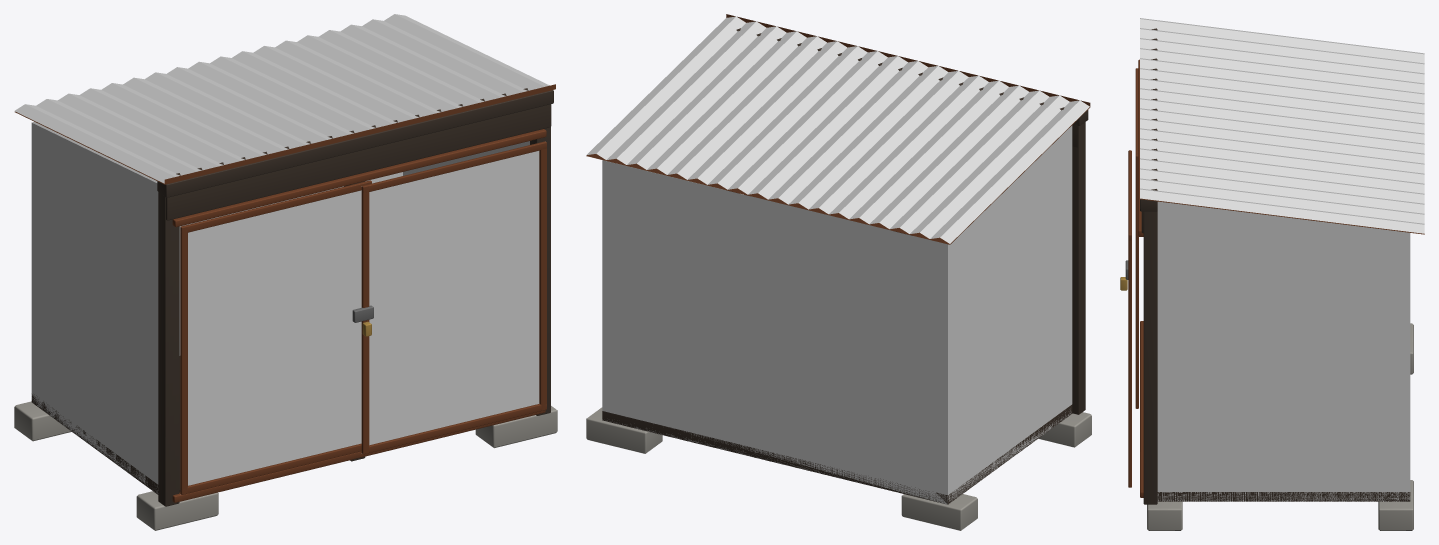
File: CorrugatedShedKM.fbx
3 renders of one model, left to right at view 1: azimuth 30°, elevation 25°; view 2: azimuth 150°, elevation 25°; view 3: azimuth 270°, elevation 25°, orthographic. The views are drawn at different scales.
Parts seen in each view (by area): view 1: CorrugatedShedKM; view 2: CorrugatedShedKM; view 3: CorrugatedShedKM.
Part boxes in pixels (<box>): CorrugatedShedKM: <box>14,14,557,530</box>; CorrugatedShedKM: <box>586,14,1091,530</box>; CorrugatedShedKM: <box>1120,18,1424,530</box>.
Size of the model in its own units: 2.48 by 2.07 by 1.71.
